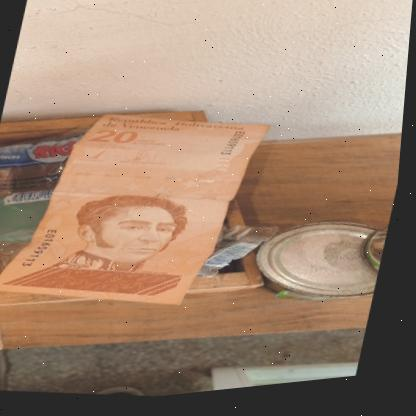twenty-front-vef: (0, 91, 275, 332)
